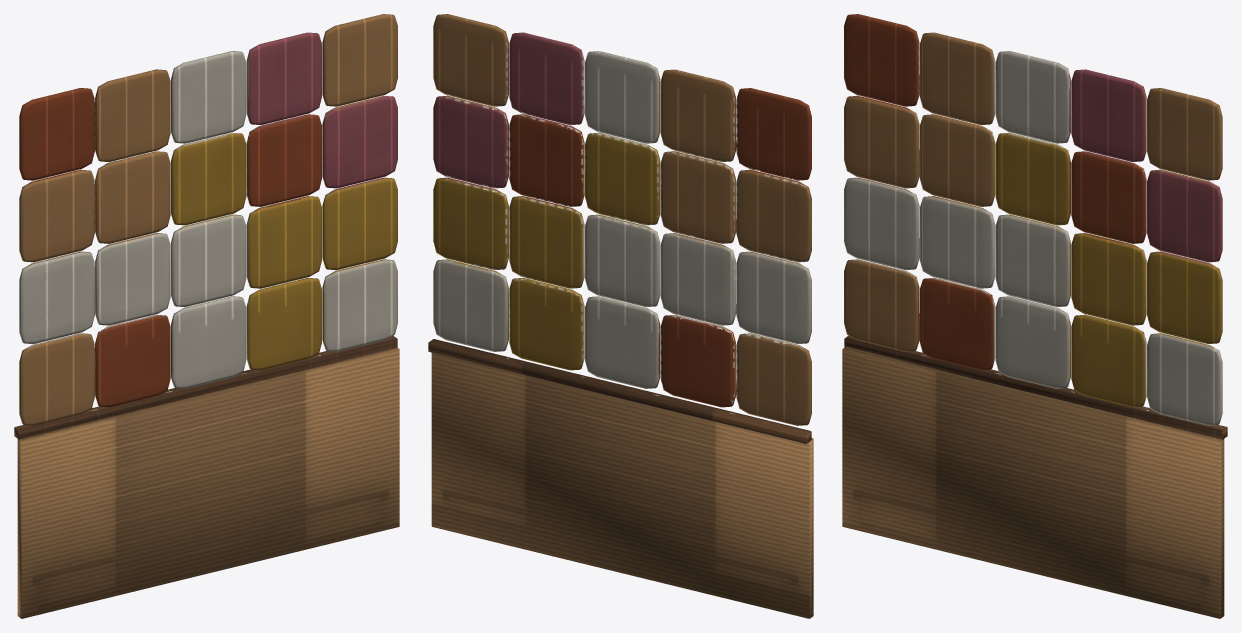
File: wall_quilt_warm.glb
3 views of the same model, side by side, from view 1: azimuth 30°, elevation 25°; view 2: azimuth 150°, elevation 25°; view 3: azimuth 330°, elevation 25° (orthographic).
Visible parts, largest first — view 1: prop_wall_quilt_warm_felt, prop_wall_quilt_warm_wood; view 2: prop_wall_quilt_warm_felt, prop_wall_quilt_warm_wood; view 3: prop_wall_quilt_warm_felt, prop_wall_quilt_warm_wood.
Boxes of the visible parts, bbox=[...] form: prop_wall_quilt_warm_felt: bbox=[19, 14, 397, 425]; prop_wall_quilt_warm_wood: bbox=[14, 335, 399, 618]; prop_wall_quilt_warm_felt: bbox=[433, 14, 811, 425]; prop_wall_quilt_warm_wood: bbox=[428, 339, 813, 618]; prop_wall_quilt_warm_felt: bbox=[844, 14, 1222, 425]; prop_wall_quilt_warm_wood: bbox=[842, 335, 1227, 618].
Bounding box in the file's own units: 4 × 5.19 × 0.1386.
Materials: 2 (2 with a texture image).
